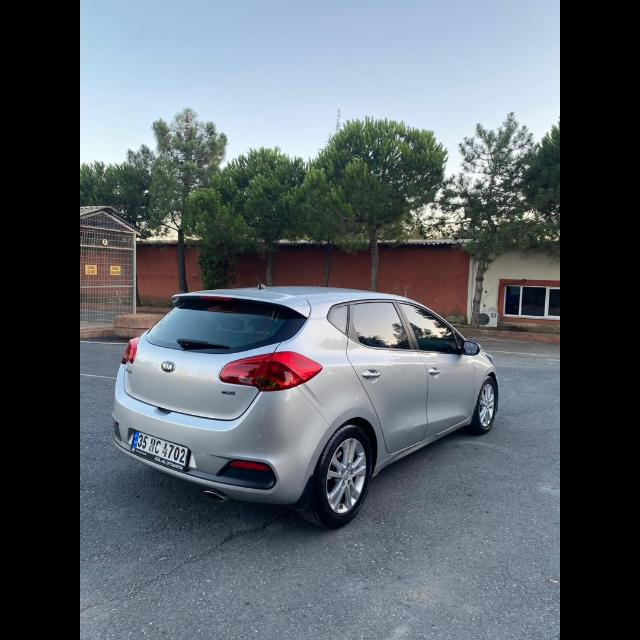Plaka: (133, 430, 190, 466)
